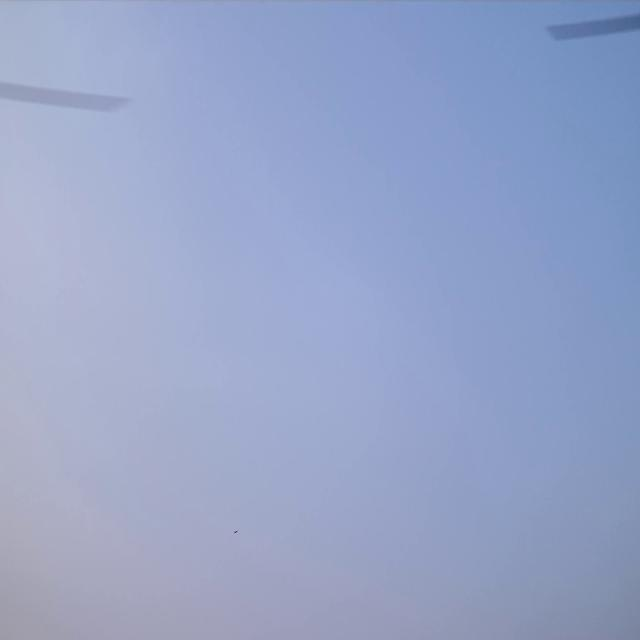UAV: (234, 529, 238, 534)
